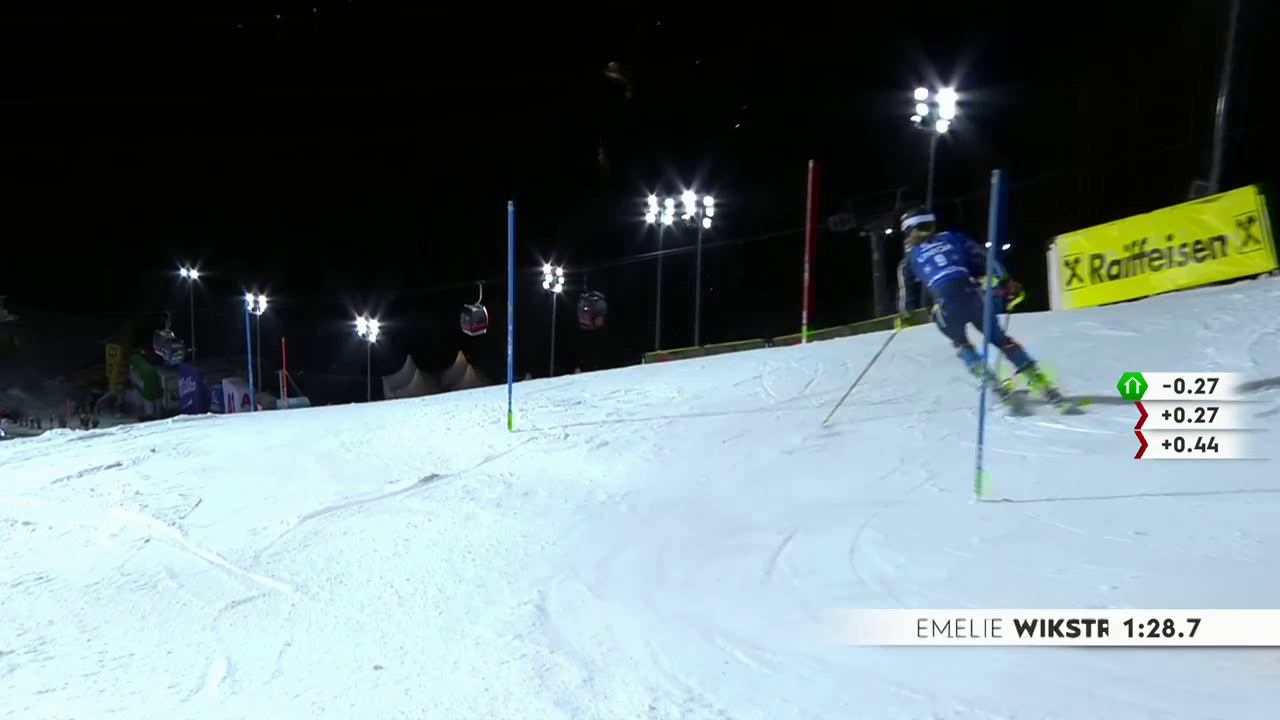a1: (232, 390, 255, 412)
raiffeisen: (1061, 202, 1254, 304)
